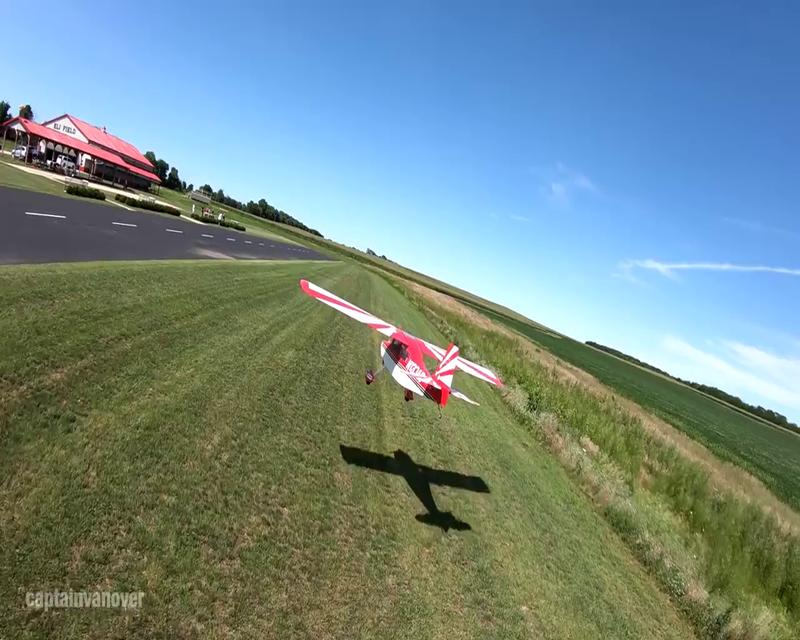UAV: (298, 276, 504, 409)
